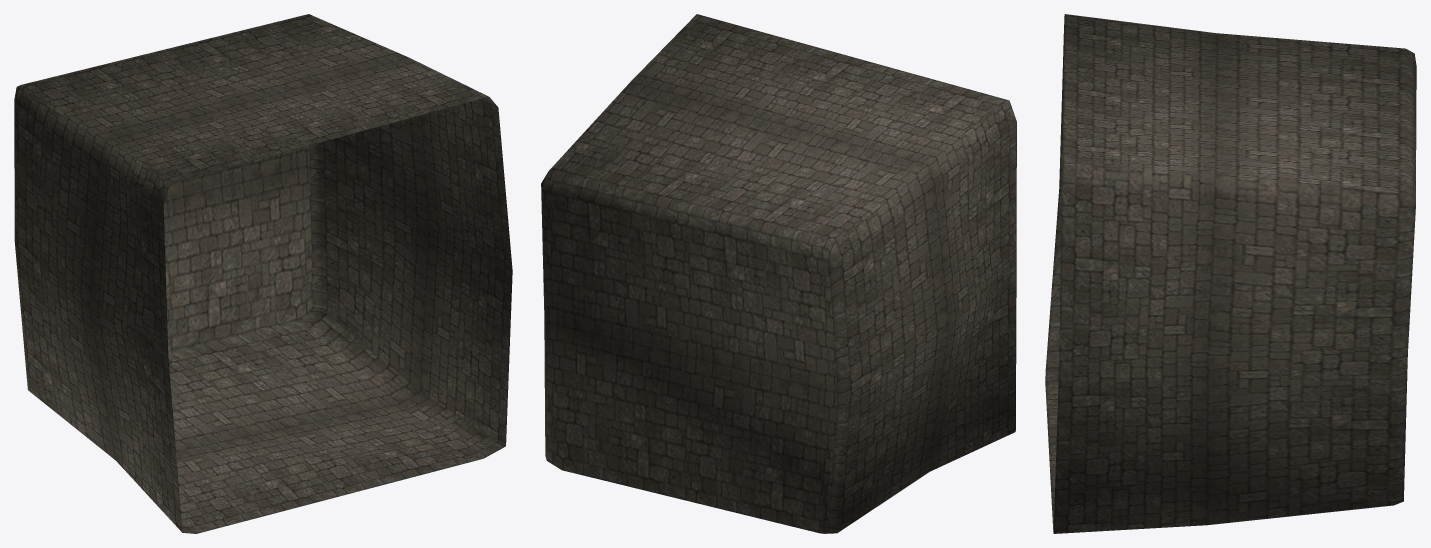
Rendered from Block_01_LP.fbx.
The picture shows the model from 3 angles, left to right: view 1: azimuth 30°, elevation 25°; view 2: azimuth 150°, elevation 25°; view 3: azimuth 270°, elevation 25°; orthographic projection. The views are drawn at different scales.
Parts seen in each view (by area): view 1: Block_01; view 2: Block_01; view 3: Block_01.
Part boxes in pixels (x1,y1,x2,y2): Block_01: (14,14,512,533); Block_01: (541,14,1016,533); Block_01: (1045,14,1416,533).
Size of the model in its own units: 14.04 by 13.74 by 12.46.
